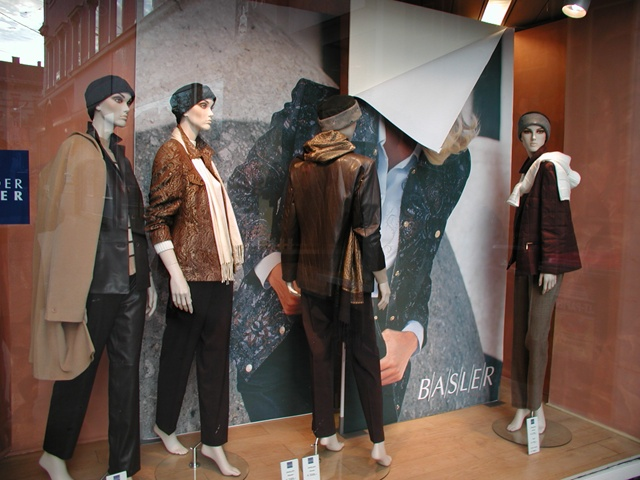person: (275, 95, 397, 463), (40, 79, 146, 473), (144, 77, 240, 469), (510, 113, 581, 439)
